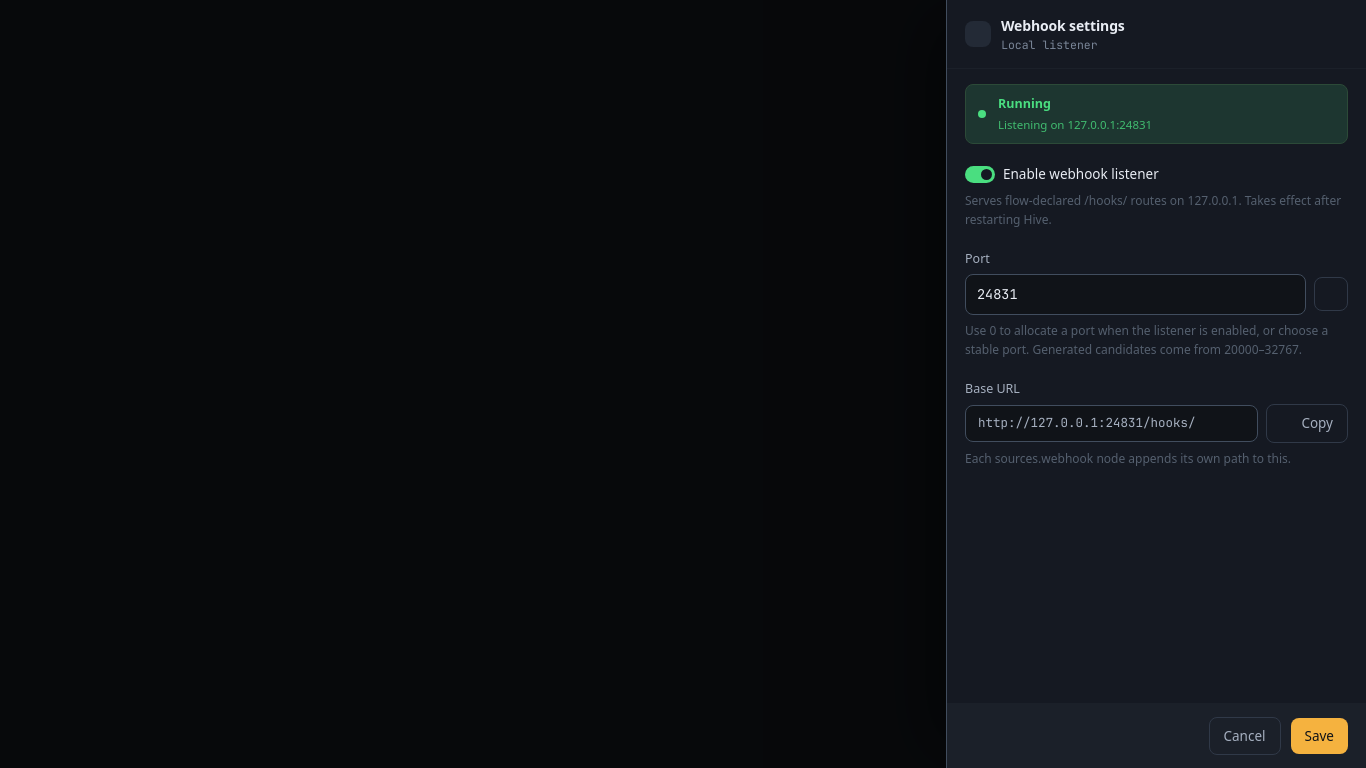
Scenario: WebhookIntegrationDrawer › generates a new random port into the field without persisting it
Click the button with test id "webhook-settings-port-generate".
click(1331, 294)  # box [1314, 277, 1348, 311]
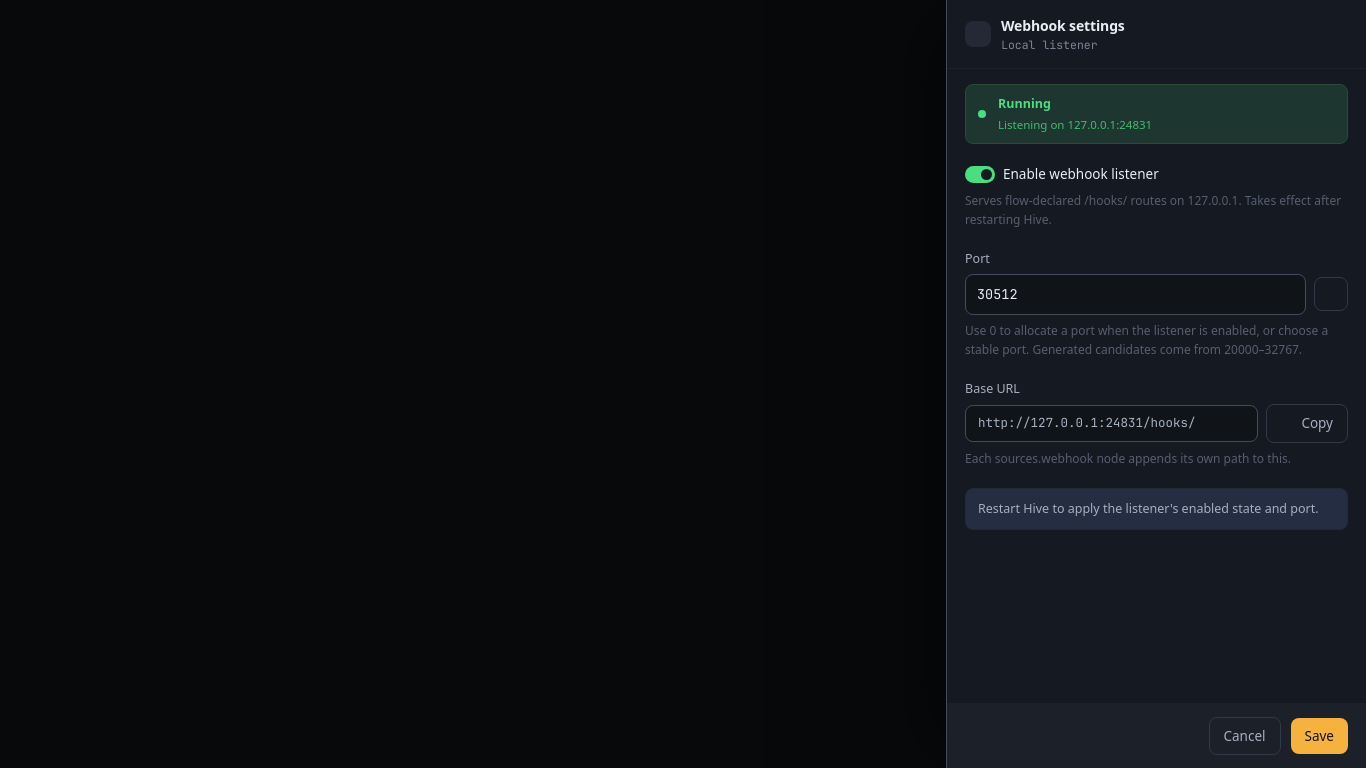
Now the number field with test id "webhook-settings-port-input" holds "30512", box [965, 274, 1306, 315]
